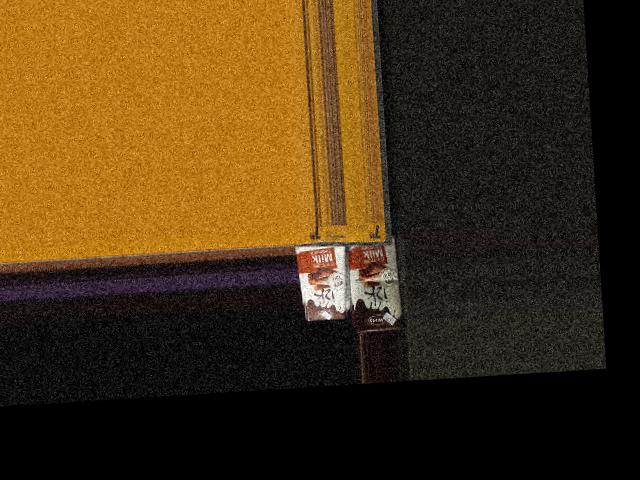chocolate: (290, 234, 349, 324)
